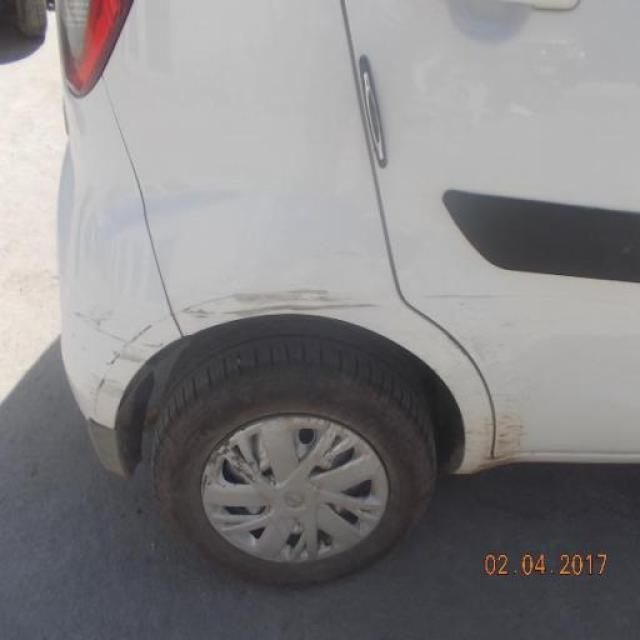scratch: (64, 283, 386, 420), (462, 401, 531, 474), (416, 284, 522, 309)
